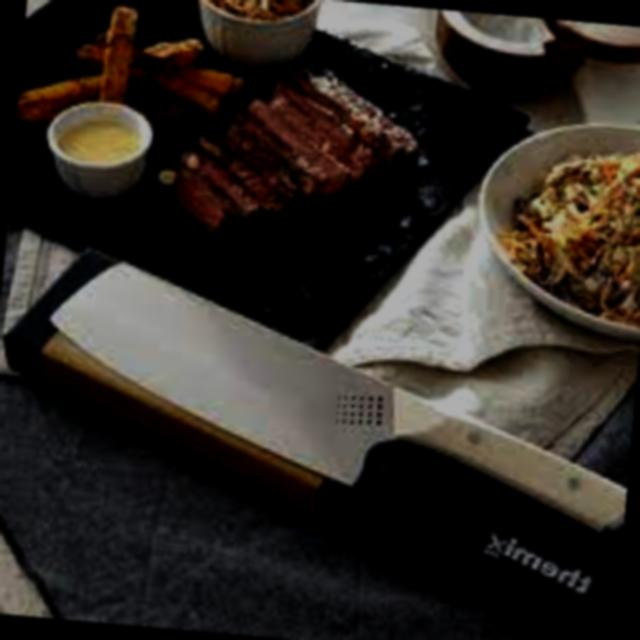cleaver: (36, 248, 640, 527)
